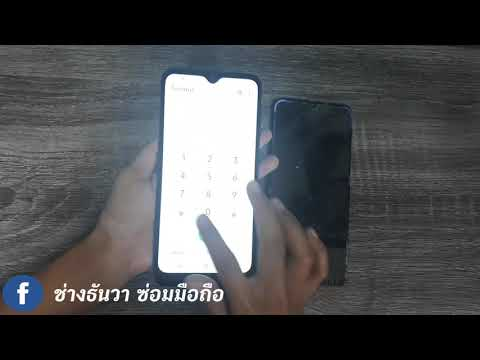Phone: (155, 66, 265, 292)
